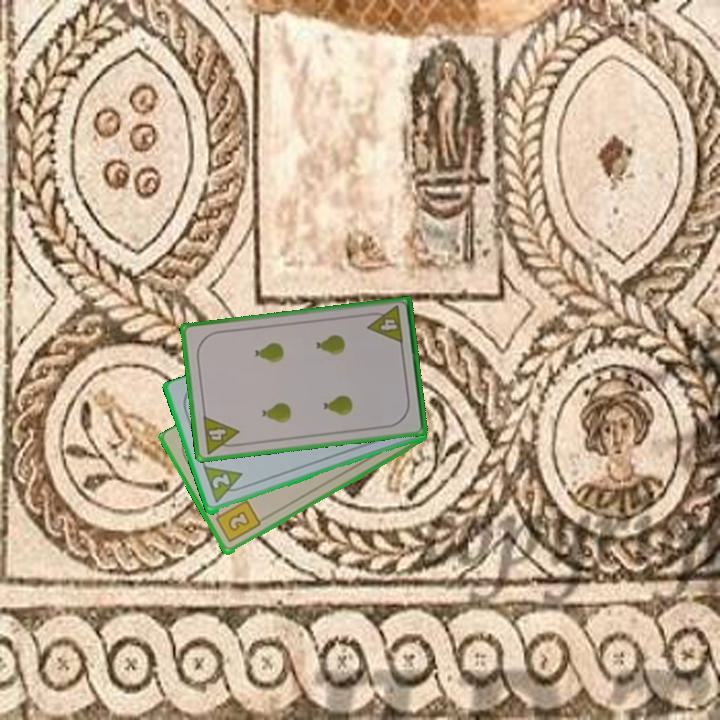2b: (211, 497, 263, 546)
2p: (208, 471, 233, 492)
4p: (199, 412, 243, 457), (363, 302, 406, 347)
